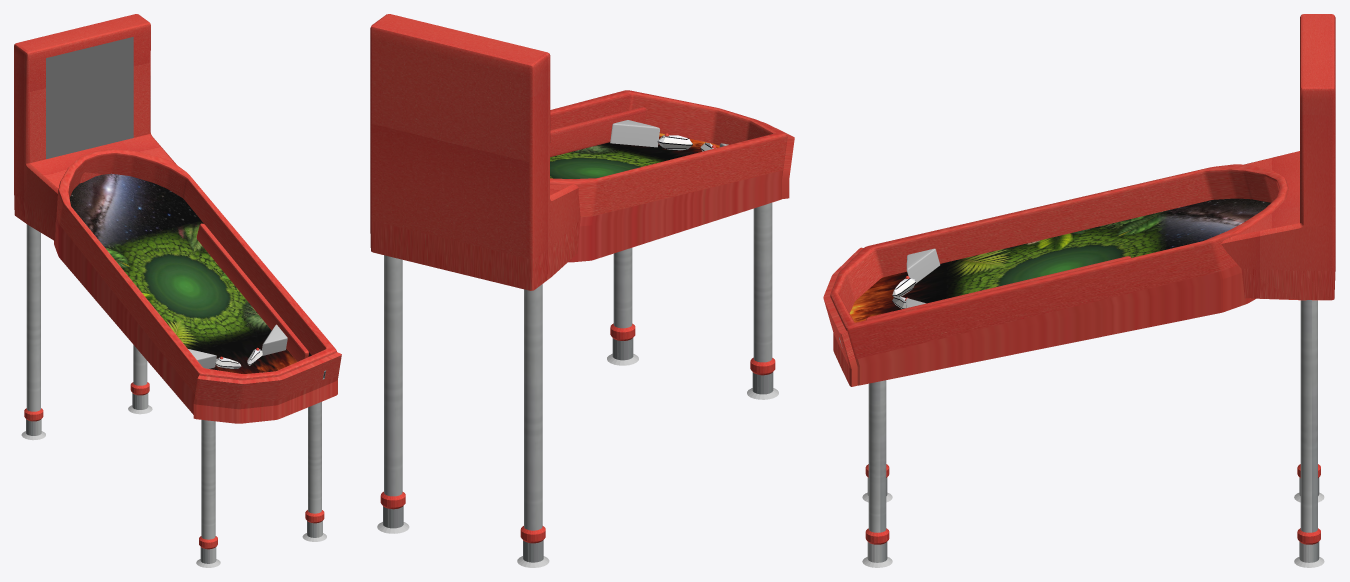
Rendered from PINBALL_V3.obj.
3 views of the same model, side by side, from view 1: azimuth 30°, elevation 25°; view 2: azimuth 150°, elevation 25°; view 3: azimuth 270°, elevation 25° (orthographic). The views are drawn at different scales.
Parts seen in each view (by area): view 1: PINBALL_V2:pTorus26; view 2: PINBALL_V2:pTorus26; view 3: PINBALL_V2:pTorus26.
Boxes of the visible parts, <box> form: PINBALL_V2:pTorus26: <box>14,14,341,567</box>; PINBALL_V2:pTorus26: <box>370,14,794,567</box>; PINBALL_V2:pTorus26: <box>823,14,1335,567</box>.
Bounding box in the file's own units: 5.55 × 15.03 × 14.58.
